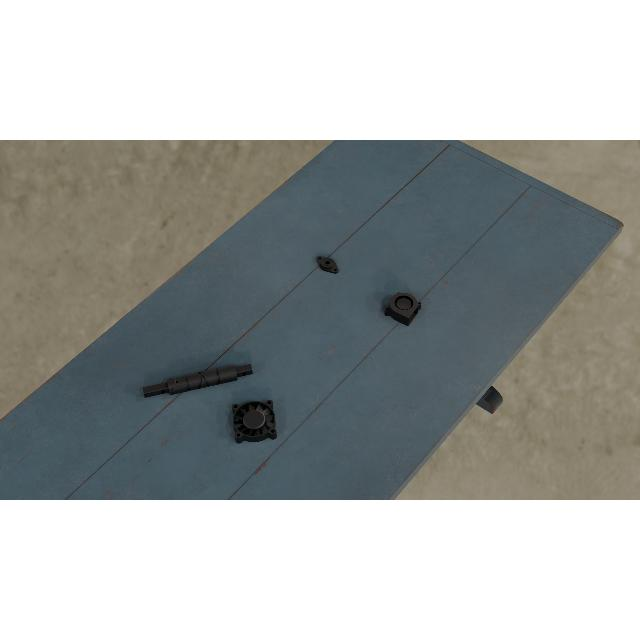Pieza1: (142, 358, 255, 404)
Pieza2: (312, 251, 343, 277)
Pieza3: (383, 288, 423, 328)
Pieza4: (231, 399, 277, 445)
